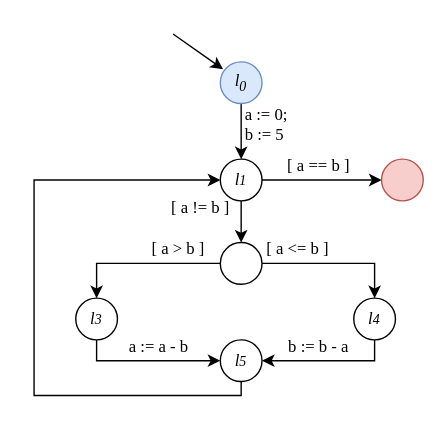
Image size: 448x431. Some labels were removed from this diagram. Each missing label, with the centre of its shape:
"l 2" belongs at point (240, 262).
"l e" belongs at point (401, 179).
